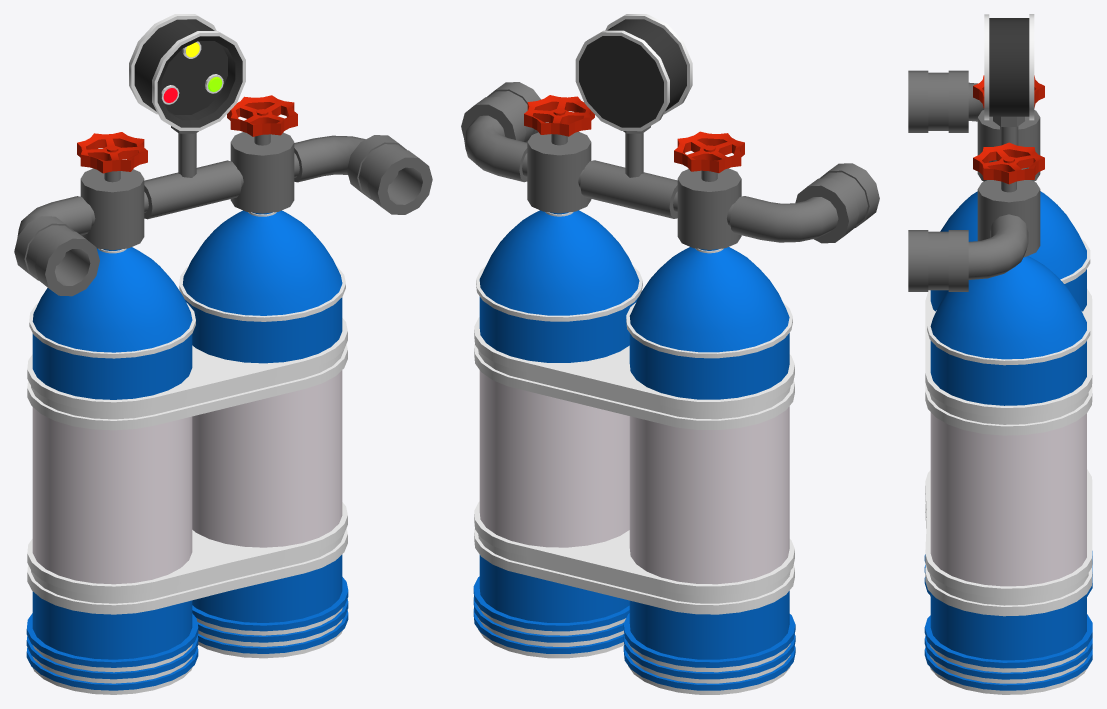
The model's file is oxygen_tank.fbx.
3 renders of one model, left to right at view 1: azimuth 30°, elevation 25°; view 2: azimuth 150°, elevation 25°; view 3: azimuth 270°, elevation 25°, orthographic. The views are drawn at different scales.
Parts seen in each view (by area): view 1: Cylinder, Cylinder.004, Circle, Circle.001, Circle.002, Circle.004, Cylinder.001, Circle.007; view 2: Cylinder, Cylinder.004, Circle, Circle.001, Circle.002, Circle.004, Cylinder.001; view 3: Cylinder, Circle, Cylinder.004, Circle.001, Circle.002, Cylinder.001.
Boxes of the visible parts, x1,y1,x2,y2 form: Cylinder: [26, 210, 348, 694]; Cylinder.004: [27, 318, 347, 614]; Circle: [14, 132, 432, 296]; Circle.001: [129, 14, 245, 130]; Circle.002: [77, 95, 297, 173]; Circle.004: [144, 160, 243, 219]; Cylinder.001: [171, 126, 198, 177]; Circle.007: [161, 41, 223, 104]; Cylinder: [473, 210, 795, 694]; Cylinder.004: [474, 317, 794, 614]; Circle: [461, 82, 879, 249]; Circle.001: [575, 14, 692, 131]; Circle.002: [524, 95, 744, 173]; Circle.004: [578, 160, 677, 218]; Cylinder.001: [623, 126, 650, 177]; Cylinder: [924, 191, 1092, 694]; Circle: [908, 70, 1040, 291]; Cylinder.004: [925, 288, 1092, 616]; Circle.001: [984, 14, 1034, 120]; Circle.002: [973, 75, 1044, 184]; Cylinder.001: [993, 116, 1024, 145].
Bounding box in the file's own units: 559 × 852 × 235.
